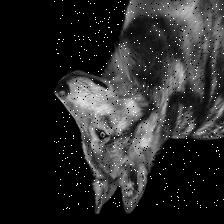WOLF: (54, 0, 224, 210)
